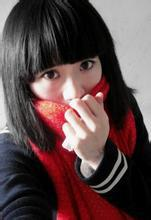WRONG: (11, 45, 115, 149)
